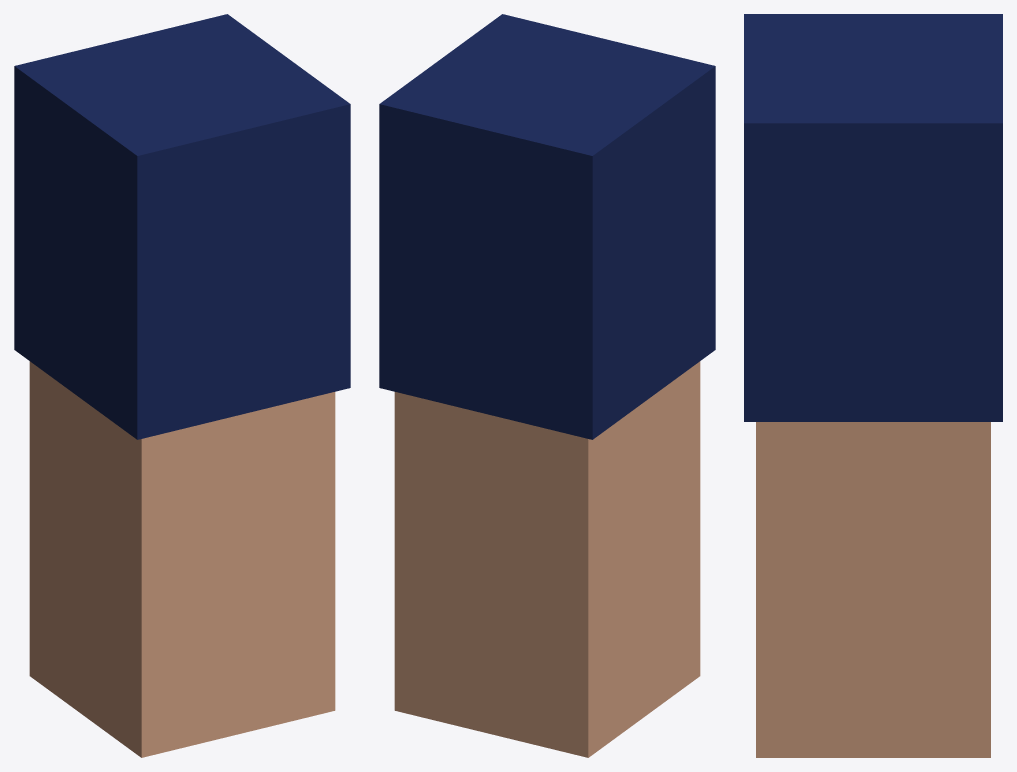
The model's file is arb_brazo.obj.
3 views of the same model, side by side, from view 1: azimuth 30°, elevation 25°; view 2: azimuth 150°, elevation 25°; view 3: azimuth 270°, elevation 25° (orthographic). The views are drawn at different scales.
Size of the model in its own units: 0.11 by 0.3 by 0.11.
Materials: 2 (2 with a texture image).
